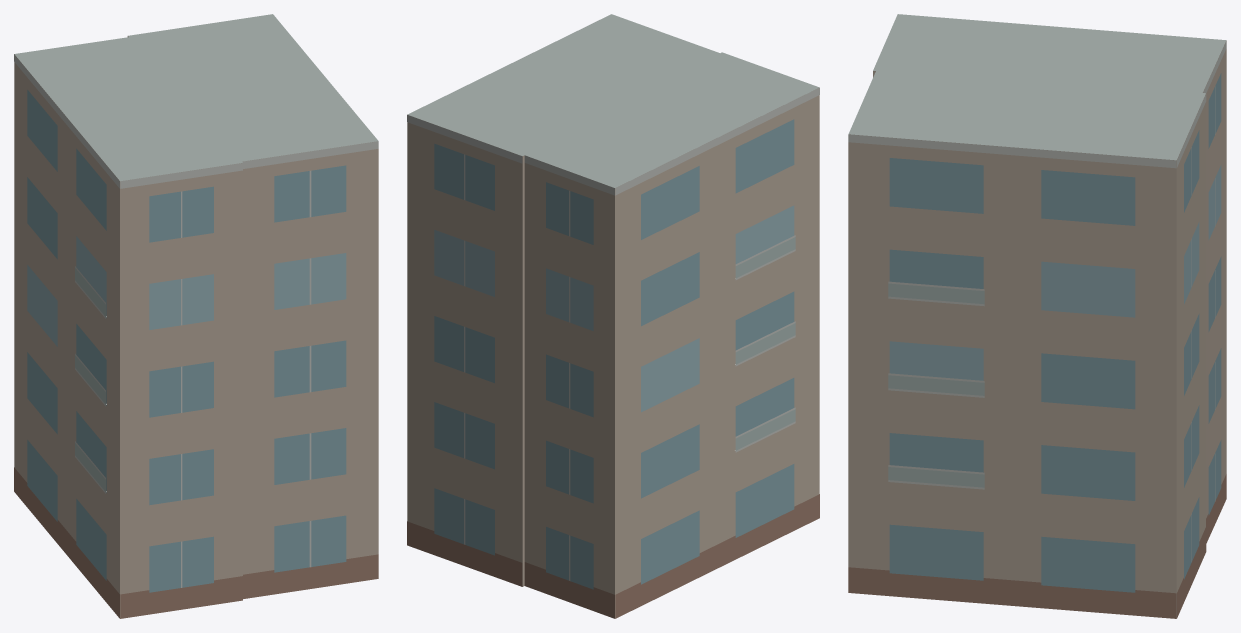
Rendered from survey-upis-32537524.glb.
3 views of the same model, side by side, from view 1: azimuth 30°, elevation 25°; view 2: azimuth 150°, elevation 25°; view 3: azimuth 270°, elevation 25° (orthographic). The views are drawn at different scales.
Parts seen in each view (by area): view 1: survey-upis-32537524.tmp; view 2: survey-upis-32537524.tmp; view 3: survey-upis-32537524.tmp.
Boxes of the visible parts, bbox=[...] form: survey-upis-32537524.tmp: bbox=[14, 14, 378, 618]; survey-upis-32537524.tmp: bbox=[407, 14, 819, 618]; survey-upis-32537524.tmp: bbox=[848, 14, 1226, 618].
Size of the model in its own units: 9.59 by 14 by 10.47.
